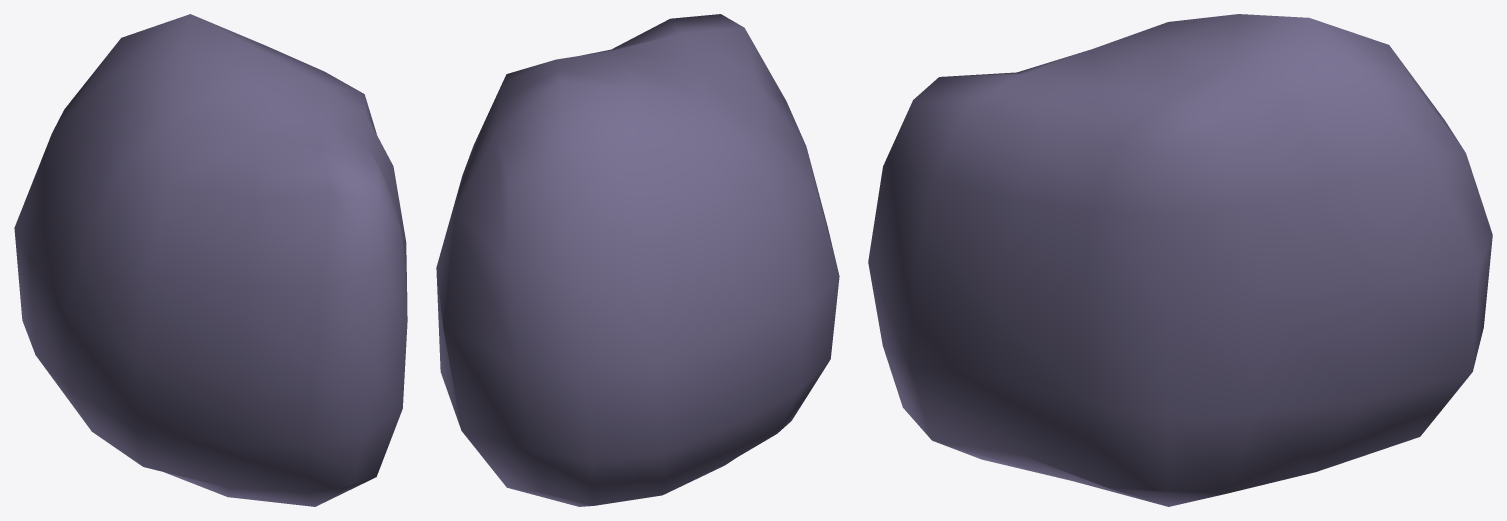
File: stone.gltf
The picture shows the model from 3 angles, left to right: view 1: azimuth 30°, elevation 25°; view 2: azimuth 150°, elevation 25°; view 3: azimuth 270°, elevation 25°; orthographic projection. The views are drawn at different scales.
Visible parts, largest first — view 1: Stone; view 2: Stone; view 3: Stone.
Part boxes in pixels (bbox=[...]): Stone: bbox=[14, 14, 407, 506]; Stone: bbox=[436, 14, 839, 506]; Stone: bbox=[868, 14, 1492, 506].
Bounding box in the file's own units: 2.47 × 3 × 3.63.
